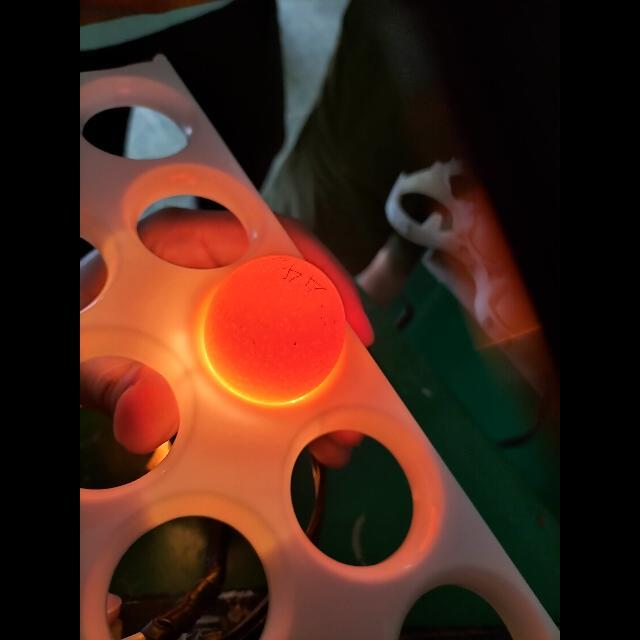Infertile: (205, 256, 338, 399)
